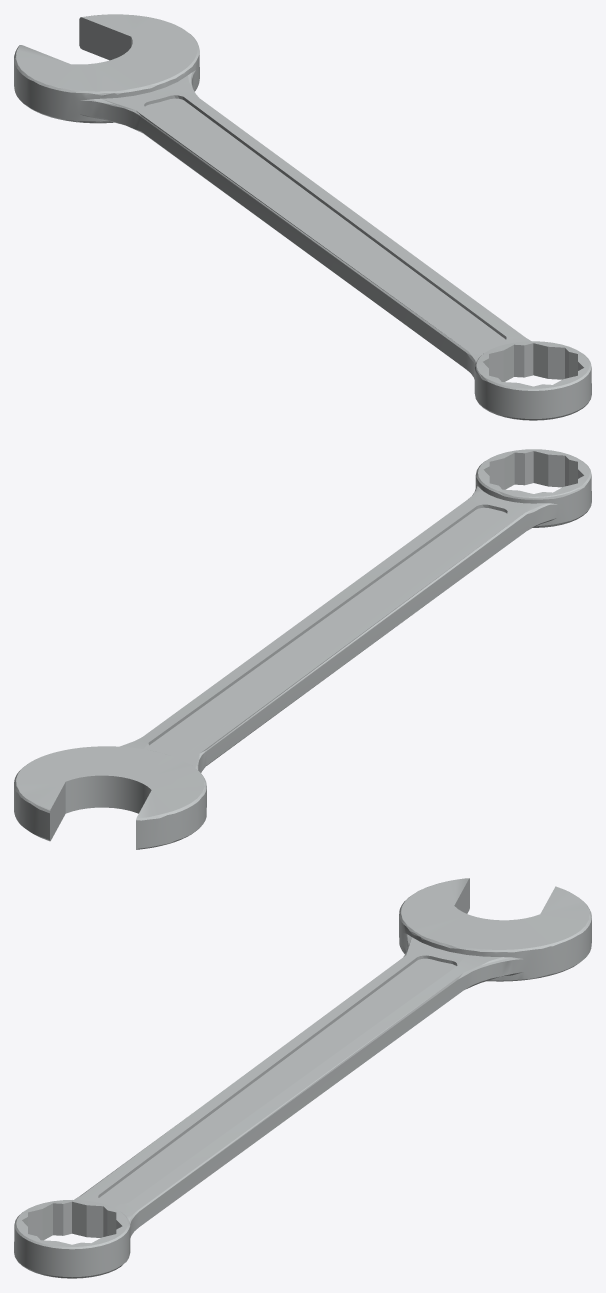
The model's file is 11-Wrench.fbx.
The picture shows the model from 3 angles, top to bottom: view 1: azimuth 30°, elevation 25°; view 2: azimuth 150°, elevation 25°; view 3: azimuth 330°, elevation 25°; orthographic projection.
Parts seen in each view (by area): view 1: Wrench; view 2: Wrench; view 3: Wrench.
Part boxes in pixels (<box>): Wrench: <box>14,14,591,420</box>; Wrench: <box>14,449,591,849</box>; Wrench: <box>14,878,591,1278</box>.
Bounding box in the file's own units: 6.9 × 1.27 × 35.62.
1 material, 1 textured.
